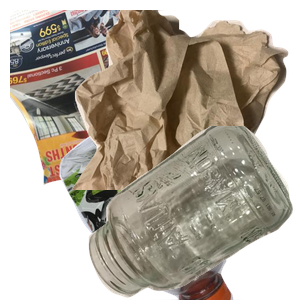glass: (86, 126, 300, 300)
paper: (10, 10, 230, 188)
plastic: (57, 120, 293, 300)
trash: (70, 10, 300, 190)
